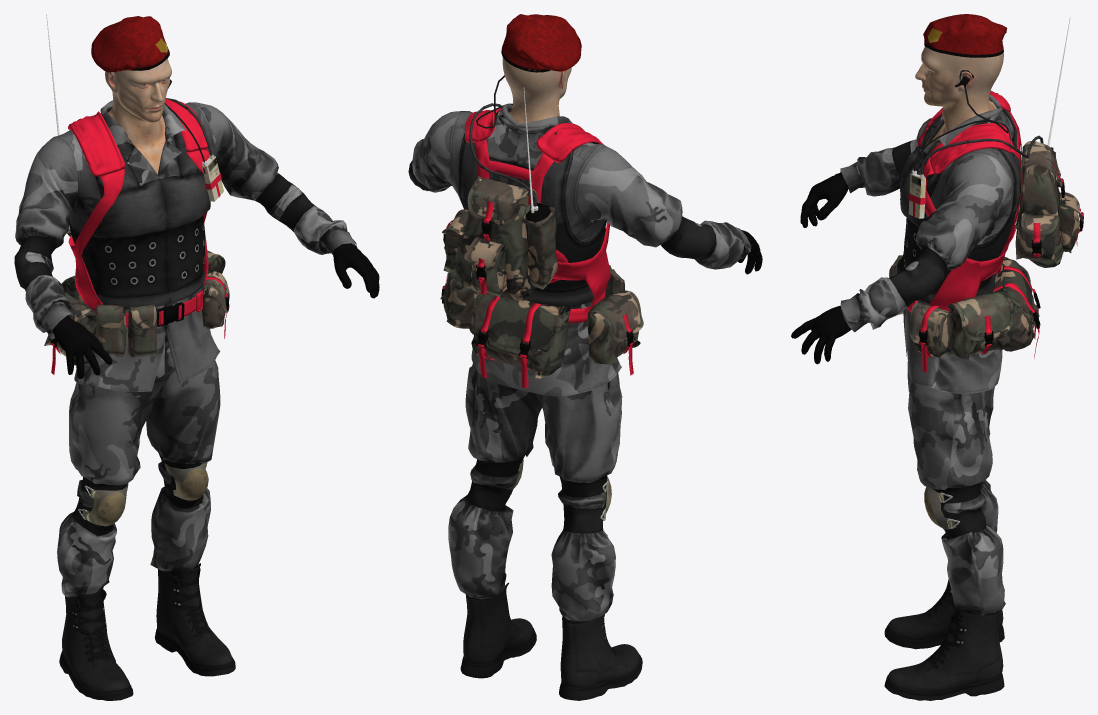
The model's file is soldier.fbx.
3 views of the same model, side by side, from view 1: azimuth 30°, elevation 25°; view 2: azimuth 150°, elevation 25°; view 3: azimuth 270°, elevation 25° (orthographic). The views are drawn at different scales.
Visible parts, largest first — view 1: vest, pants, boots, rig, bags, head, hat, gloves, knee p.001, FRONT BELT, radio; view 2: vest, pants, bags, boots, rig, hat, head, belts, wires, radio.001; view 3: vest, pants, bags, boots, rig, head, gloves, hat, belts, wires, radio, knee p.001.
Part boxes in pixels (x1,y1,x2,y2): vest: (14, 100, 357, 391); pants: (57, 334, 220, 597); boots: (59, 563, 235, 700); rig: (68, 99, 210, 308); bags: (44, 225, 229, 365); head: (105, 58, 171, 174); hat: (91, 16, 169, 72); gloves: (52, 243, 379, 378); knee p.001: (82, 462, 208, 526); FRONT BELT: (91, 290, 202, 327); radio: (202, 154, 223, 201); vest: (408, 104, 751, 396); pants: (448, 363, 622, 622); bags: (440, 176, 643, 378); boots: (460, 573, 642, 700); rig: (465, 108, 610, 323); hat: (501, 14, 581, 72); head: (502, 57, 596, 144); belts: (441, 201, 633, 388); wires: (469, 75, 536, 206); radio.001: (523, 87, 550, 245); vest: (840, 90, 1020, 394); pants: (907, 361, 1005, 615); bags: (889, 141, 1083, 359); boots: (884, 579, 1004, 700); rig: (917, 91, 1022, 311); head: (915, 46, 1003, 146); gloves: (791, 172, 851, 364); hat: (923, 14, 1007, 57); belts: (919, 164, 1083, 372); wires: (914, 70, 1043, 174); radio: (908, 170, 925, 218); knee p.001: (924, 486, 956, 529).
Bounding box in the file's own units: 1360 × 2561 × 1041.
